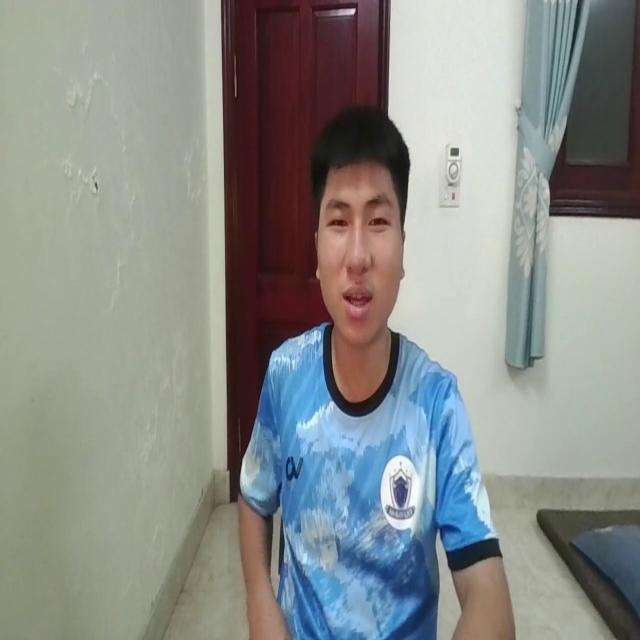student: (218, 103, 511, 640)
